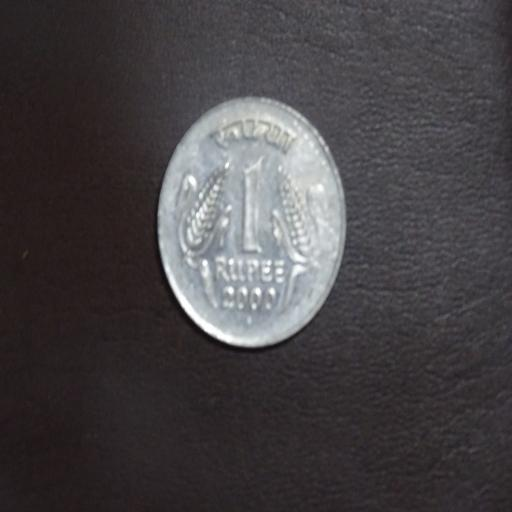rupee1: (154, 98, 346, 348)
